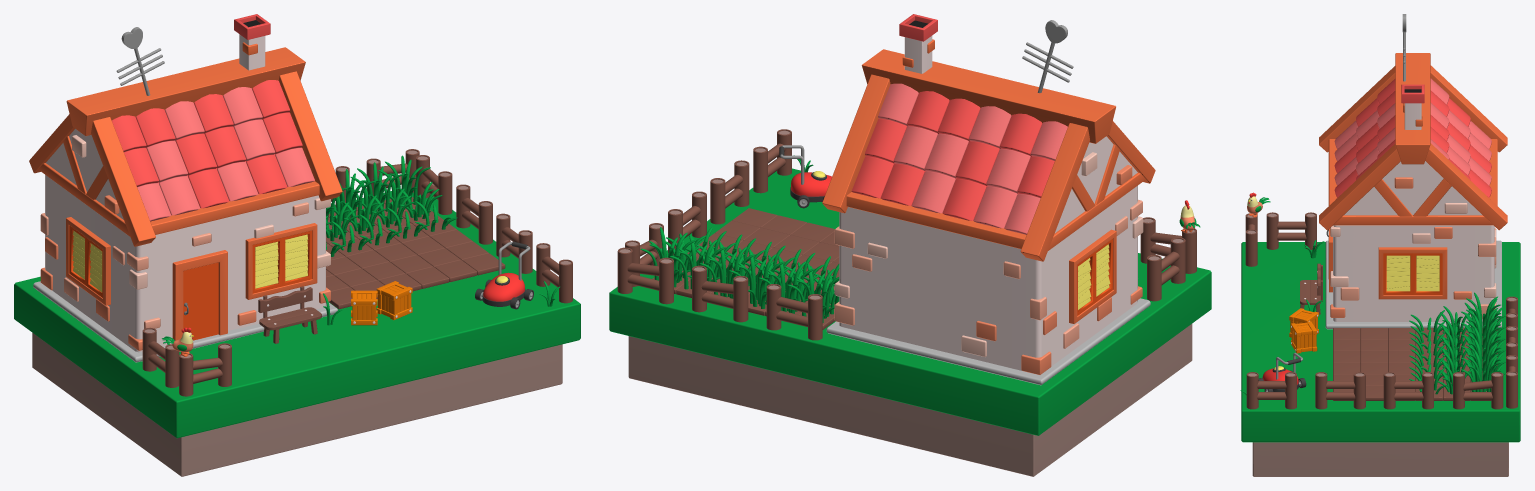
File: Farm_Island_18.glb
3 views of the same model, side by side, from view 1: azimuth 30°, elevation 25°; view 2: azimuth 150°, elevation 25°; view 3: azimuth 270°, elevation 25° (orthographic). The views are drawn at different scales.
Visible parts, largest first — view 1: Farm_18_House_1, Farm_18_Base_1, Farm_18_Bench_1, Farm_18_Lawn_Mover_1, Farm_18_Fence_9, Farm_18_Fence_5, Farm_18_Fence_7, Farm_18_Fence_10, Farm_18_Fence_4, Farm_18_Fence_6, Farm_18_Box_2, Farm_18_Ground_with_Grass_1 (+13 smaller); view 2: Farm_18_House_1, Farm_18_Base_1, Farm_18_Fence_1, Farm_18_Fence_2, Farm_18_Fence_3, Farm_18_Fence_6, Farm_18_Fence_10, Farm_18_Fence_7, Farm_18_Fence_9, Farm_18_Lawn_Mover_1, Farm_18_Fence_5, Farm_18_Ground_with_Grass_7 (+7 smaller); view 3: Farm_18_House_1, Farm_18_Base_1, Farm_18_Fence_10, Farm_18_Fence_4, Farm_18_Fence_6, Farm_18_Fence_5, Farm_18_Fence_7, Farm_18_Box_2, Farm_18_Bench_1, Farm_18_Lawn_Mover_1, Farm_18_Ground_with_Grass_1, Farm_18_Fence_9 (+32 smaller).
Part boxes in pixels (bbox=[...]): Farm_18_House_1: bbox=[29, 14, 342, 362]; Farm_18_Base_1: bbox=[14, 188, 580, 476]; Farm_18_Bench_1: bbox=[258, 286, 321, 343]; Farm_18_Lawn_Mover_1: bbox=[475, 241, 533, 309]; Farm_18_Fence_9: bbox=[179, 343, 231, 396]; Farm_18_Fence_5: bbox=[456, 184, 492, 244]; Farm_18_Fence_7: bbox=[536, 243, 572, 303]; Farm_18_Fence_10: bbox=[142, 327, 179, 387]; Farm_18_Fence_4: bbox=[416, 155, 452, 214]; Farm_18_Fence_6: bbox=[496, 213, 532, 273]; Farm_18_Box_2: bbox=[376, 281, 412, 320]; Farm_18_Ground_with_Grass_1: bbox=[373, 155, 433, 212]; Farm_18_House_1: bbox=[822, 14, 1155, 385]; Farm_18_Base_1: bbox=[609, 168, 1211, 476]; Farm_18_Fence_1: bbox=[766, 284, 822, 340]; Farm_18_Fence_2: bbox=[692, 265, 748, 322]; Farm_18_Fence_3: bbox=[617, 247, 673, 304]; Farm_18_Fence_6: bbox=[710, 160, 749, 224]; Farm_18_Fence_10: bbox=[1147, 237, 1185, 301]; Farm_18_Fence_7: bbox=[753, 129, 791, 193]; Farm_18_Fence_9: bbox=[1140, 217, 1196, 273]; Farm_18_Lawn_Mover_1: bbox=[779, 145, 831, 208]; Farm_18_Fence_5: bbox=[668, 191, 706, 255]; Farm_18_Ground_with_Grass_7: bbox=[729, 249, 789, 315]; Farm_18_House_1: bbox=[1319, 53, 1507, 329]; Farm_18_Base_1: bbox=[1241, 242, 1520, 476]; Farm_18_Fence_10: bbox=[1266, 212, 1316, 249]; Farm_18_Fence_4: bbox=[1453, 372, 1503, 409]; Farm_18_Fence_6: bbox=[1315, 372, 1365, 409]; Farm_18_Fence_5: bbox=[1383, 372, 1433, 409]; Farm_18_Fence_7: bbox=[1246, 372, 1296, 409]; Farm_18_Box_2: bbox=[1291, 321, 1317, 353]; Farm_18_Bench_1: bbox=[1300, 263, 1322, 314]; Farm_18_Lawn_Mover_1: bbox=[1258, 352, 1306, 391]; Farm_18_Ground_with_Grass_1: bbox=[1460, 350, 1505, 400]; Farm_18_Fence_9: bbox=[1245, 213, 1257, 266].
Bounding box in the file's own units: 12.97 × 11.42 × 9.05.
56 materials, 56 textured.
